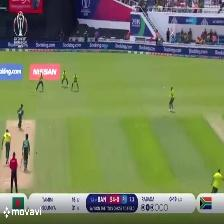ball: (46, 123, 54, 132)
batsman: (15, 102, 30, 130)
